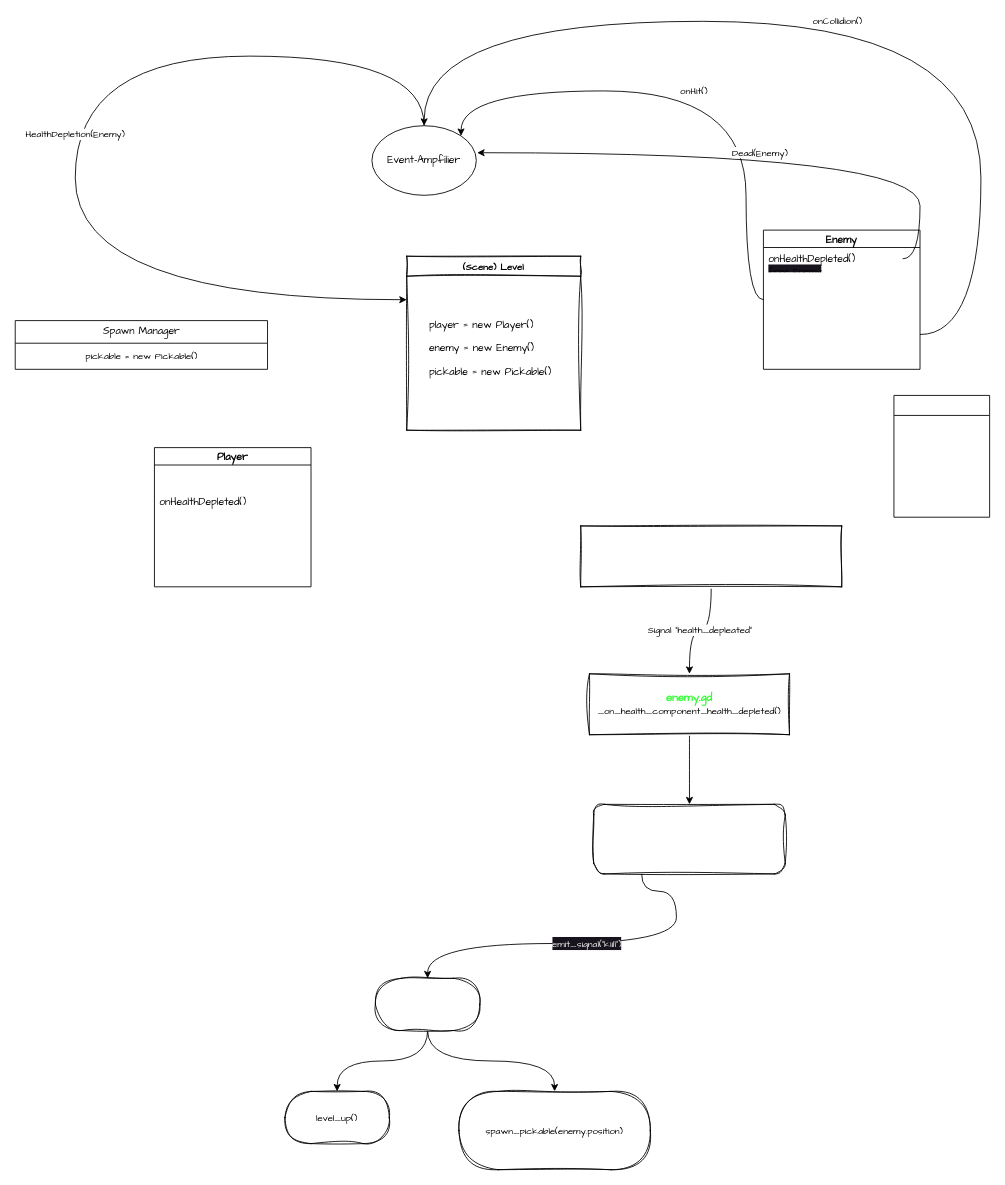
Image size: 1005x1185. Some labels were removed from this diagram. Here are the shapes that lost their labels. From the top down, the centre of each, then its label:
At [941,456]: "Pickable".
At [711,556]: "HealthComponent.gd".
At [689,838]: "Global.gd Global._on_enemy_health_depleted()".
At [427,1004]: "level.gd".
